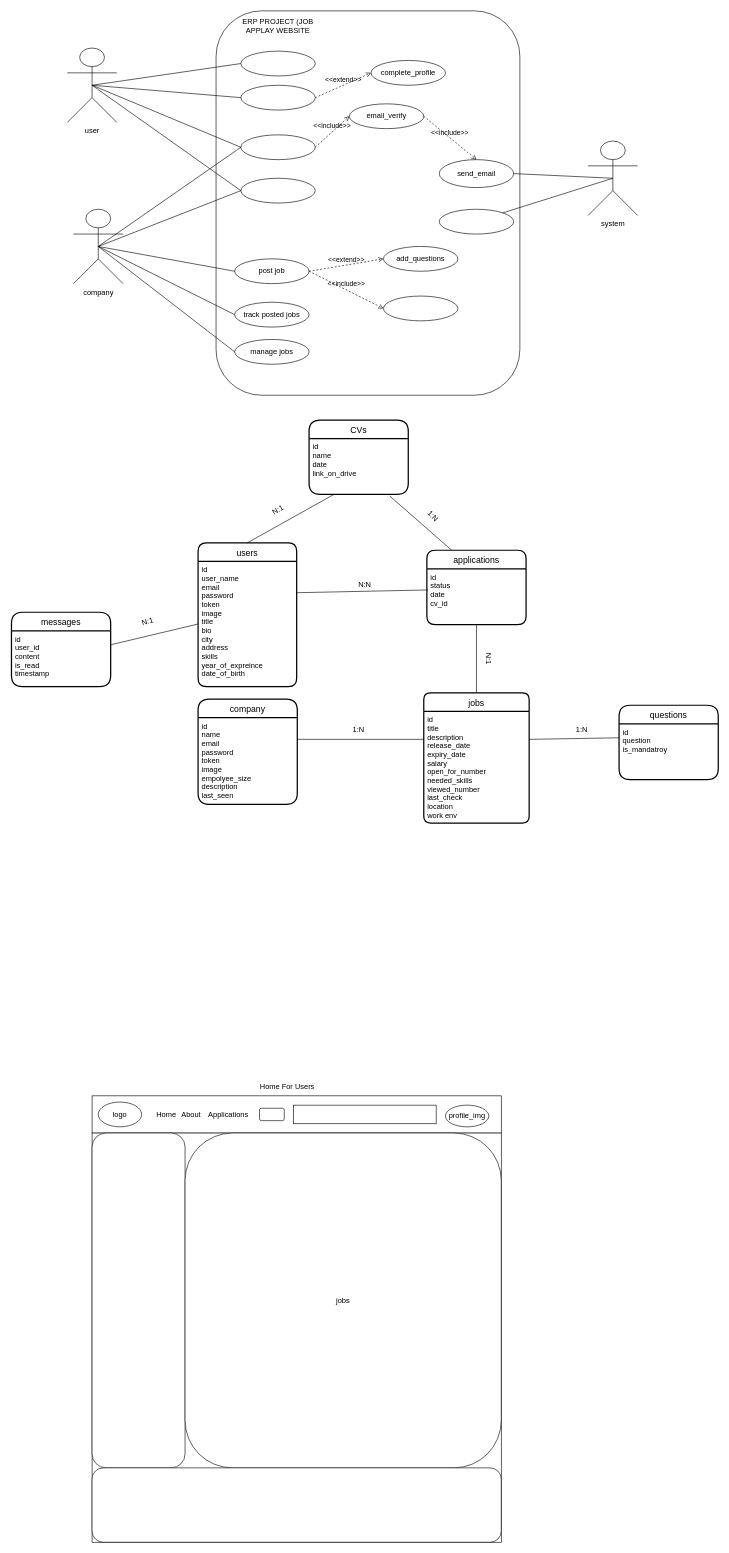
Some shapes in this 729 by 1553 pixel diagram are drawn without their labels. Each missing label, with the centre of its shape:
"apply for jobs" goes at (277,97).
"filters" goes at (138,1300).
"Footer" goes at (296,1504).
"jobs filter" goes at (277,63).
"login" goes at (277,190).
"msg" goes at (271,1114).
"register" goes at (277,147).
"required_skills" goes at (420,308).
"search" goes at (364,1114).
"send_message_to user" goes at (476,221).
